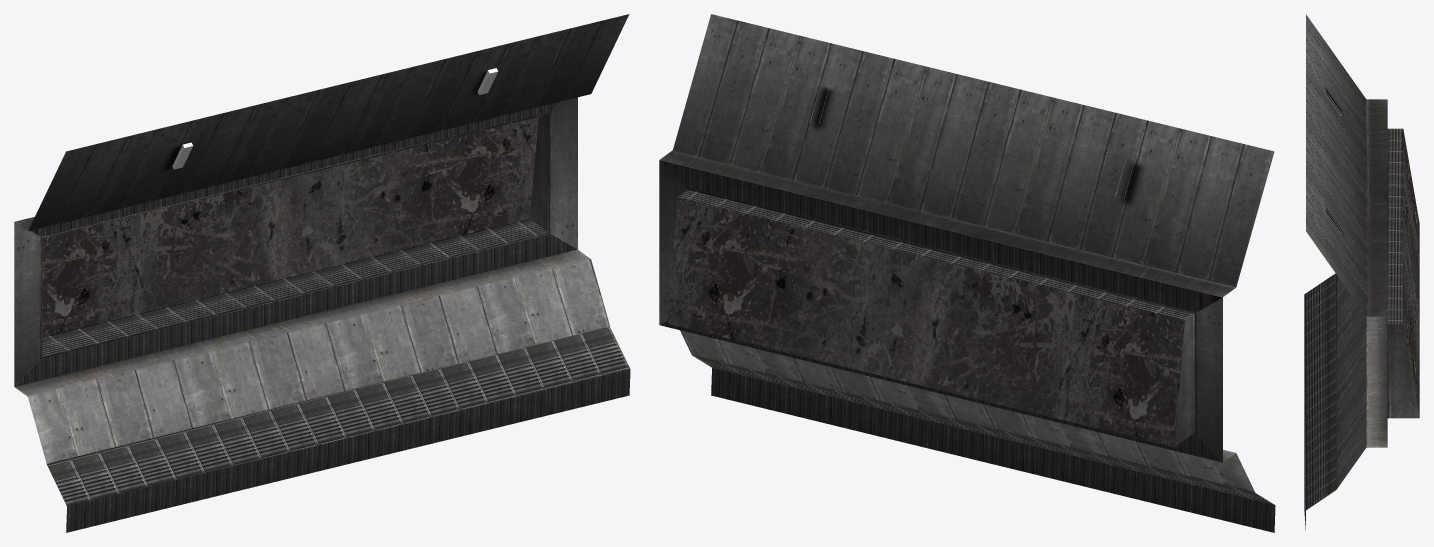
Rendered from SiFiWall4.fbx.
The picture shows the model from 3 angles, left to right: view 1: azimuth 30°, elevation 25°; view 2: azimuth 150°, elevation 25°; view 3: azimuth 270°, elevation 25°; orthographic projection. The views are drawn at different scales.
Visible parts, largest first — view 1: Cube_010_002; view 2: Cube_010_002; view 3: Cube_010_002.
Boxes of the visible parts, x1,y1,x2,y2 form: Cube_010_002: [14, 14, 630, 532]; Cube_010_002: [659, 14, 1275, 532]; Cube_010_002: [1304, 14, 1419, 530].
Bounding box in the file's own units: 3.4 × 2.2 × 0.7603.
